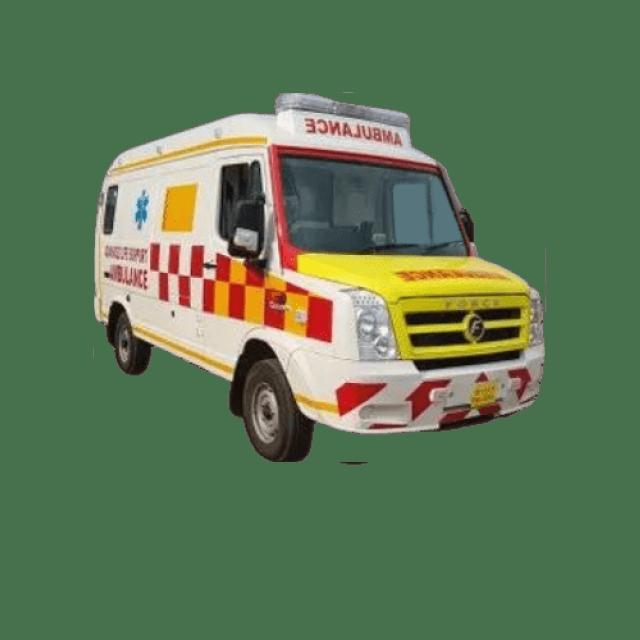emergency: (94, 94, 545, 462)
